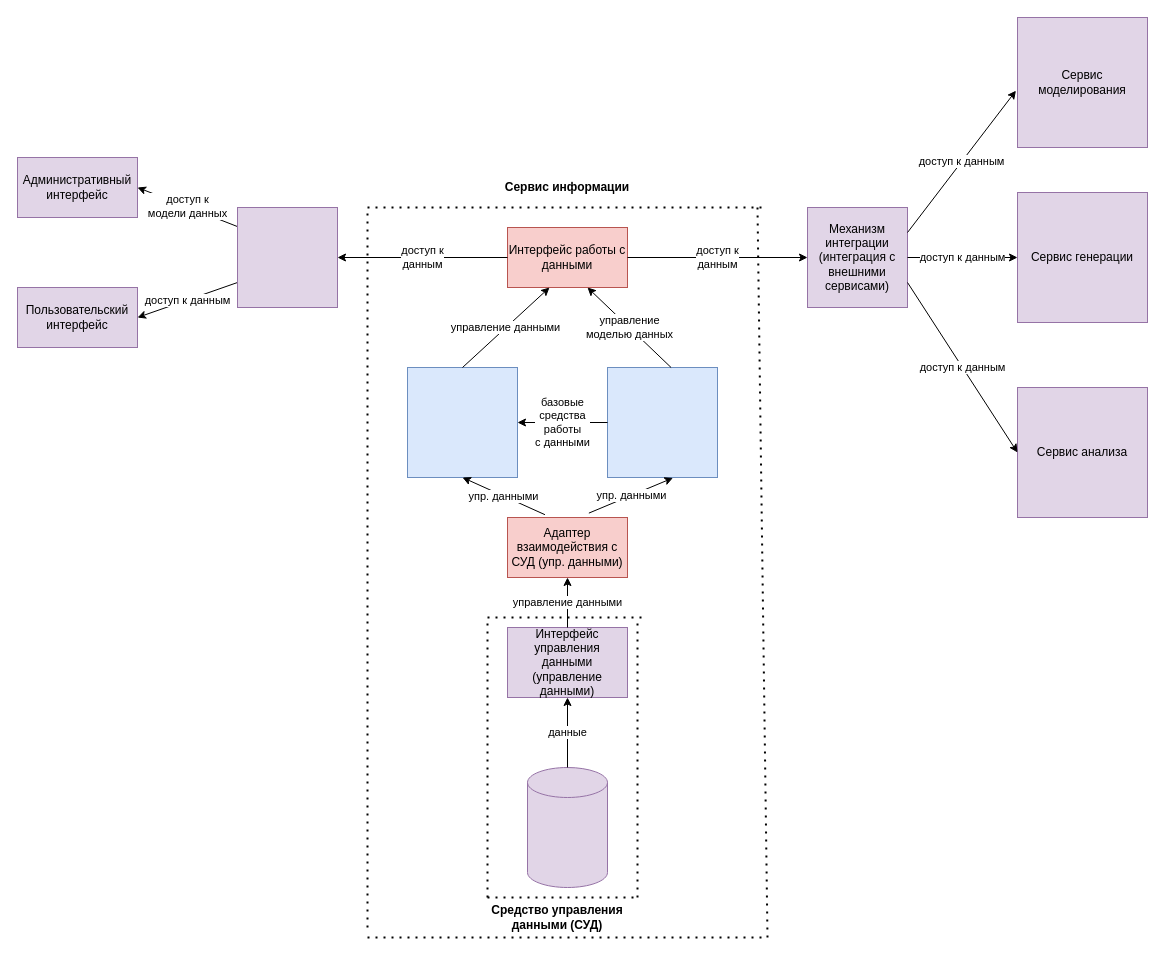
Some shapes in this 1165 by 957 pixel diagram are drawn without their labels. Each missing label, with the centre of its shape:
"Манипулятор данных (управление данными)" goes at (462,422).
"Манипулятор метаданных (управление моделью данных)" goes at (662,422).
"Механизм пользовательских интерфейсов (управление польз. интерфейсами)" goes at (287,257).
"Хранилище данных (хранение данных и модели данных)" goes at (567,827).
